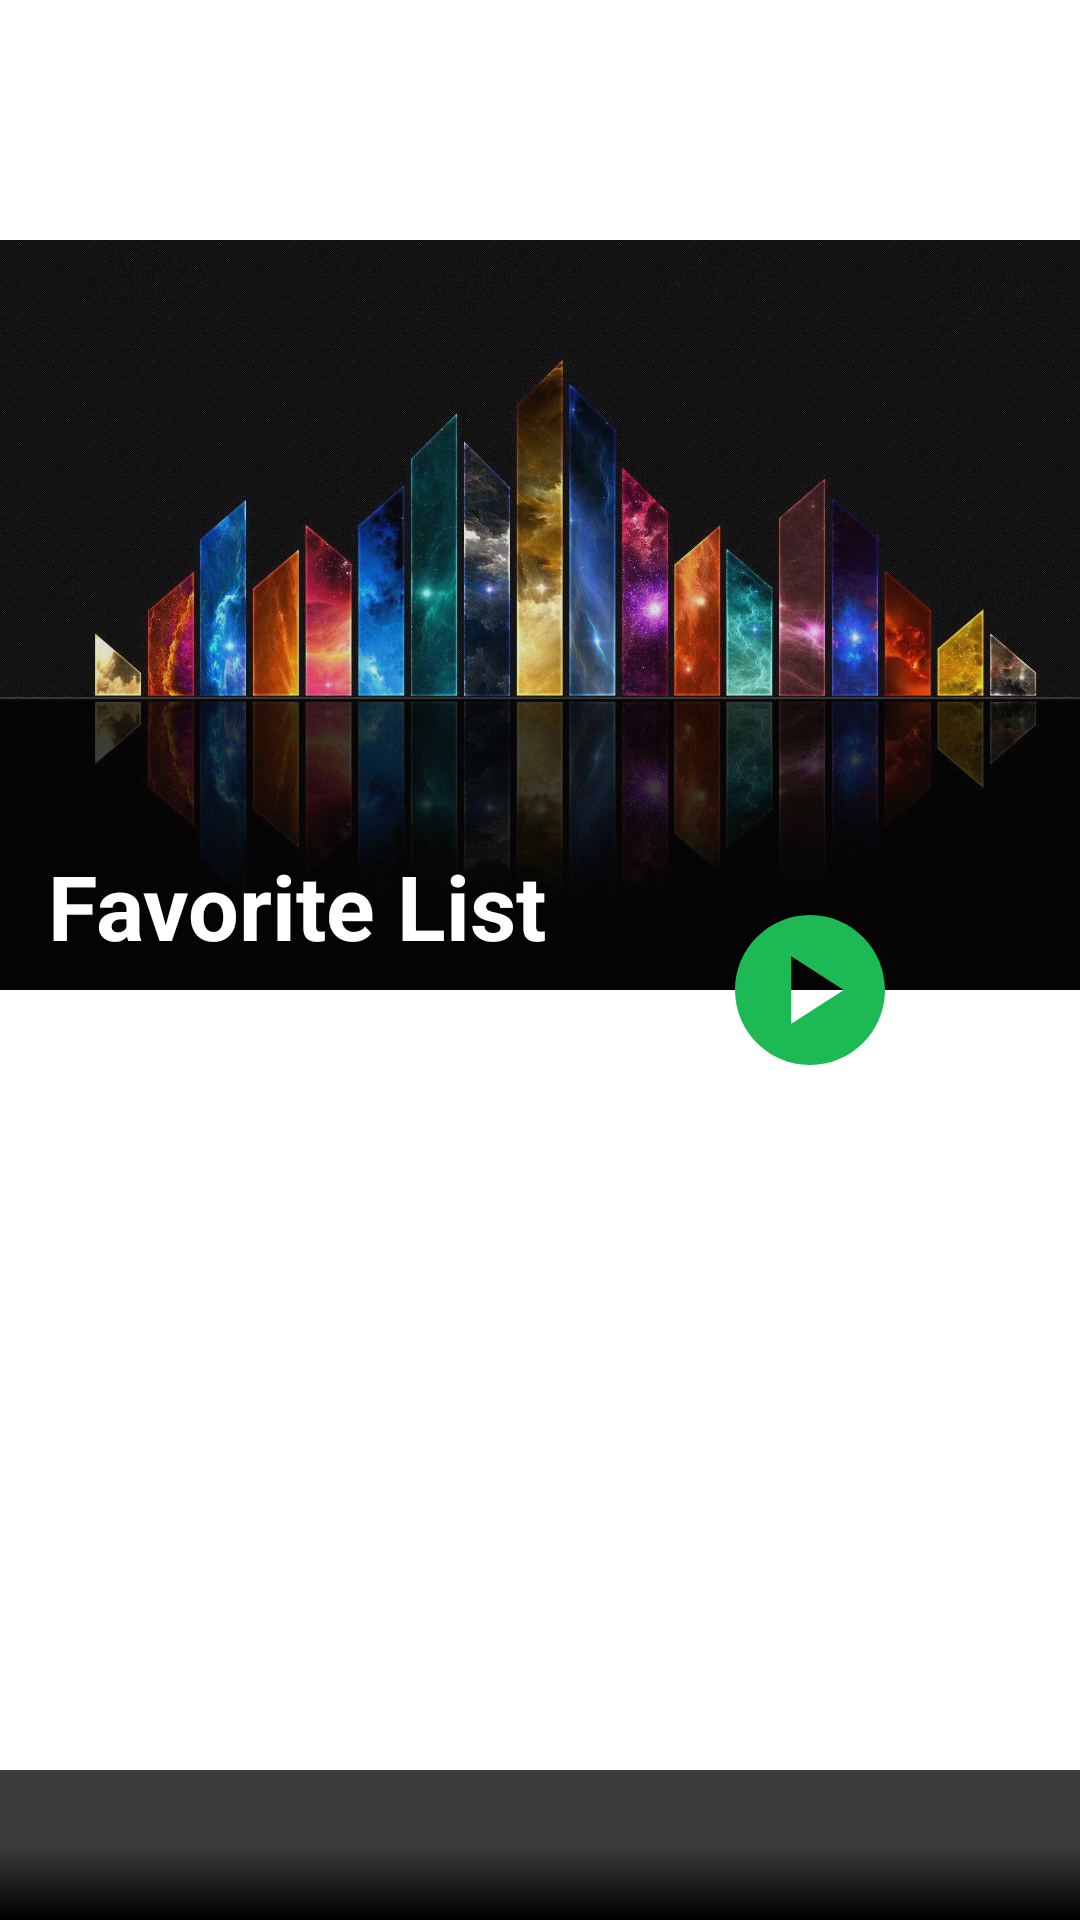

Icon click points for this 1080w x 1920h phone screenshot, format point (x, y):
play circle: point (810, 990)
